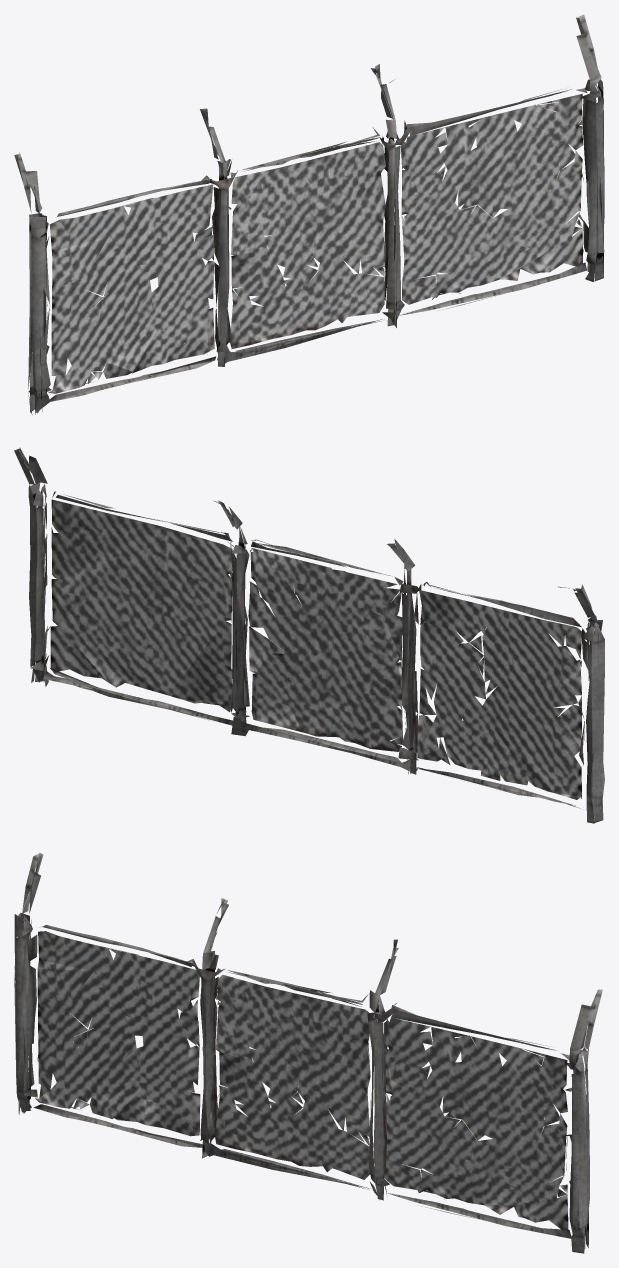
The model's file is drift_zaun.glb.
3 views of the same model, one above another, from view 1: azimuth 30°, elevation 25°; view 2: azimuth 150°, elevation 25°; view 3: azimuth 330°, elevation 25° (orthographic).
Visible parts, largest first — view 1: Prop; view 2: Prop; view 3: Prop.
Boxes of the visible parts, box(x1,y1,x2,y2) form: Prop: box(14, 14, 604, 414); Prop: box(14, 447, 604, 823); Prop: box(14, 852, 602, 1253).
Bounding box in the file's own units: 2.4 × 1 × 0.1913.
Materials: 1 (1 with a texture image).
